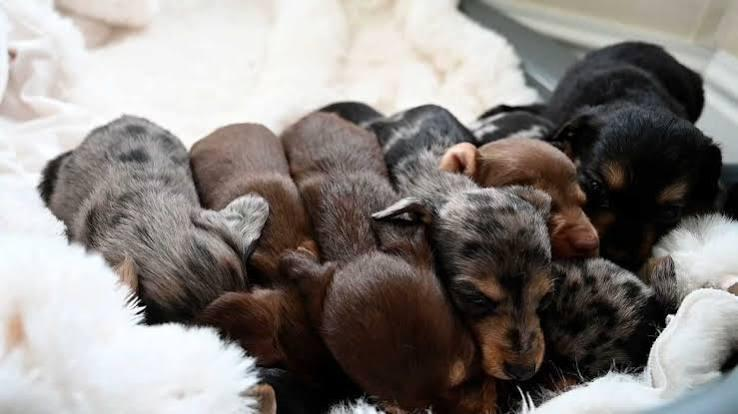puppy-dog: (461, 108, 675, 414), (278, 96, 472, 414), (369, 104, 553, 378), (39, 113, 269, 327), (544, 37, 725, 272), (189, 123, 320, 385), (438, 139, 600, 260)
